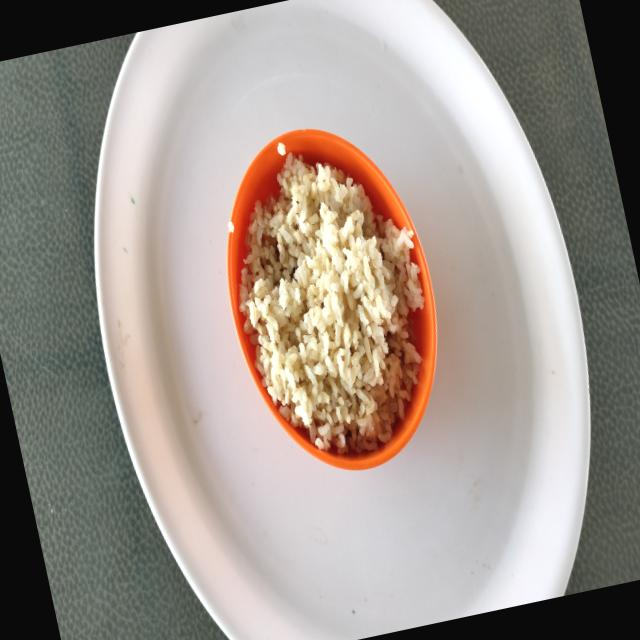brown-rice: (238, 153, 423, 453)
